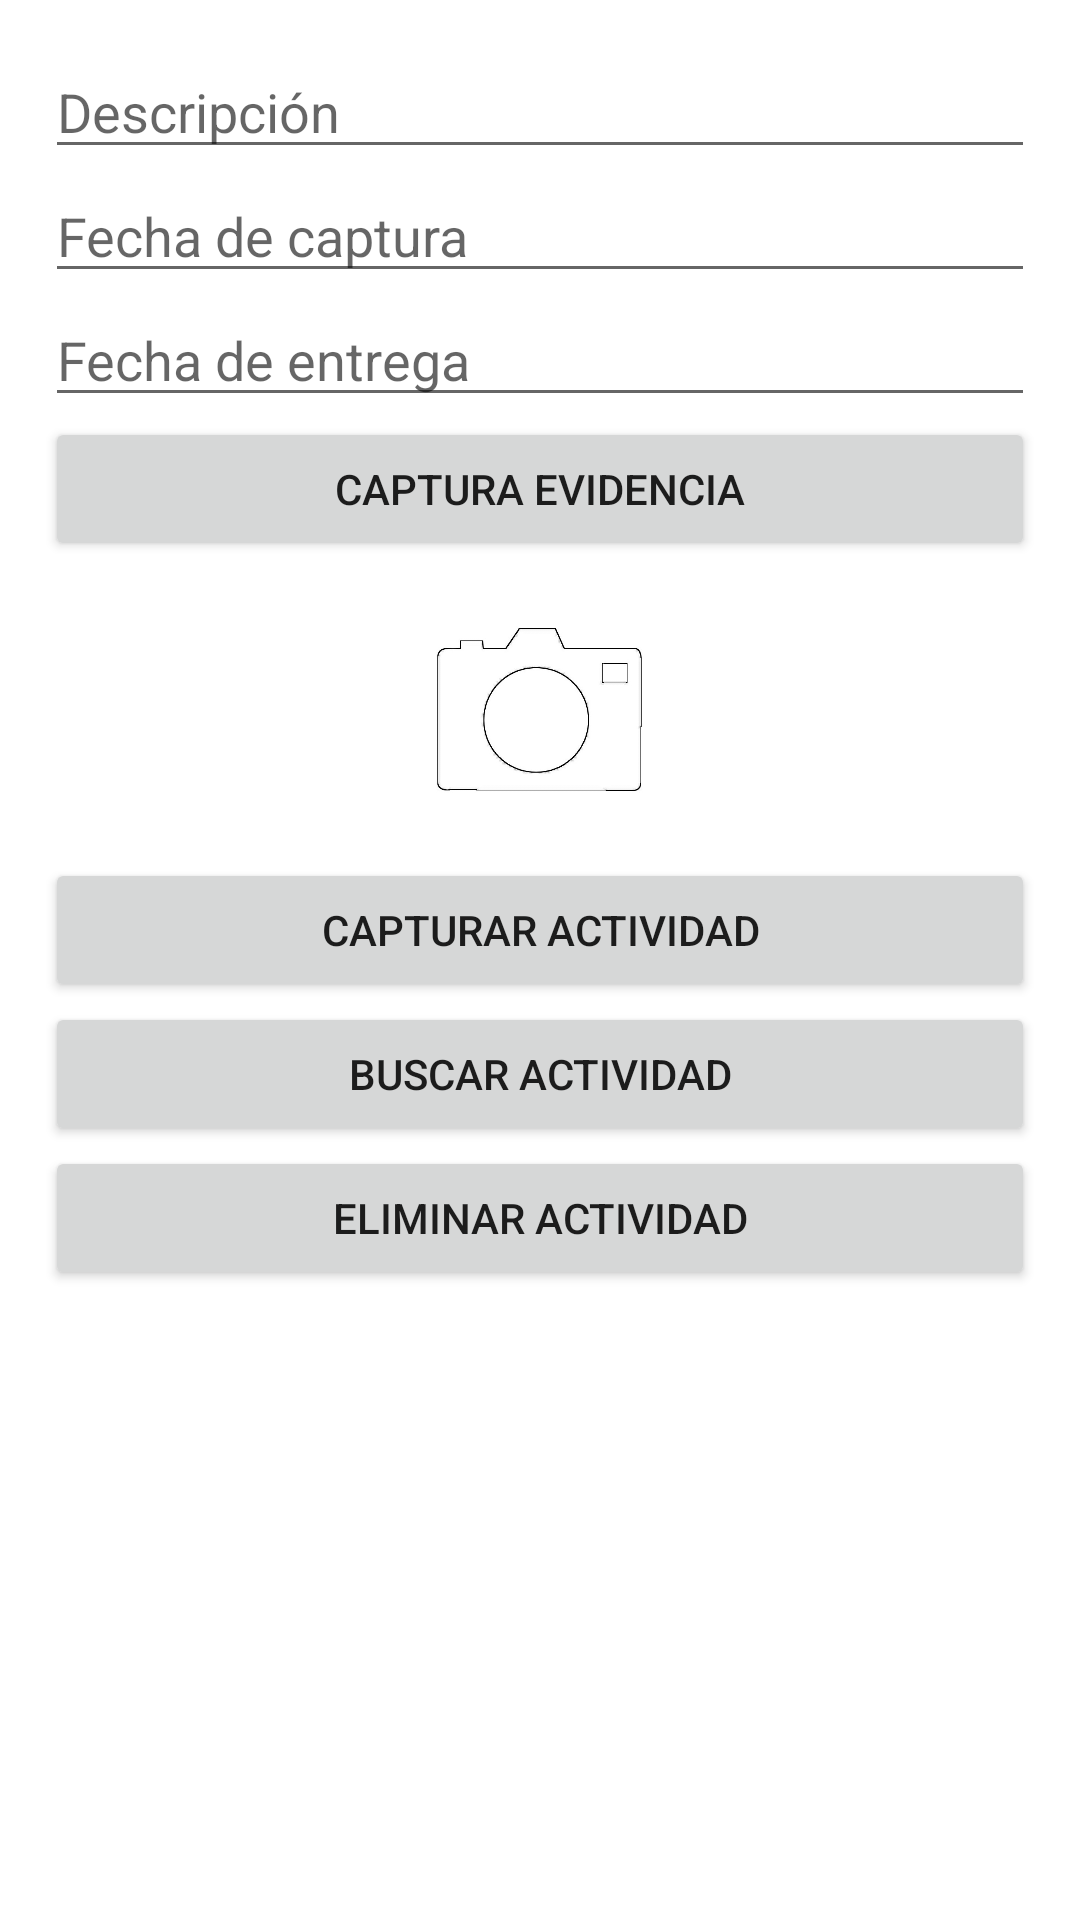

Screen size 1080*1920. Icon name, then its box in pixels as (x1, y1, x2, y2):
camara: (437, 628, 642, 791)
